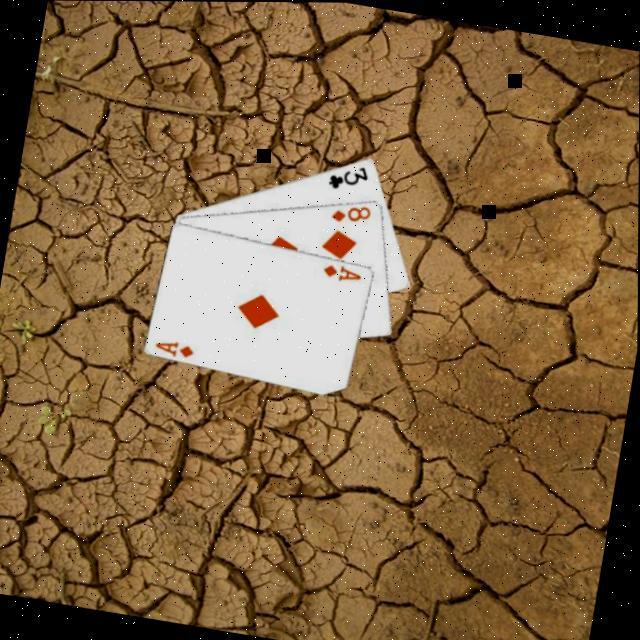3C: (322, 158, 372, 198)
8D: (326, 199, 374, 230)
AD: (317, 260, 364, 288), (150, 336, 197, 362)
